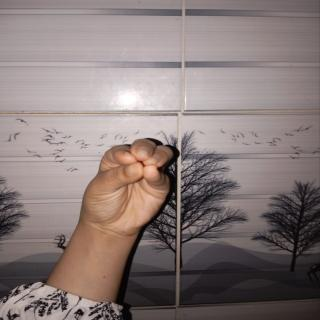HA: (72, 136, 188, 244)
